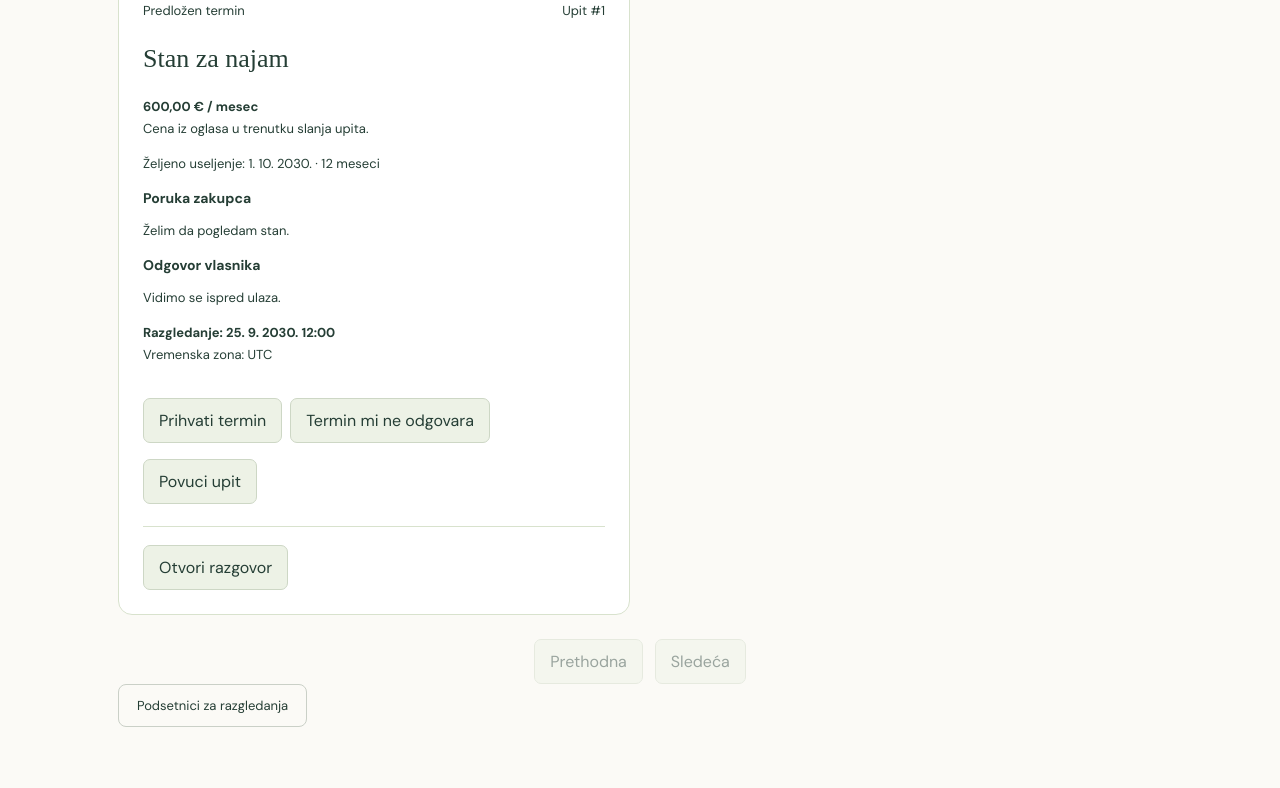
it: requires confirmation to withdraw and hides actions for closed inquiries
(page scrolled)
Click the button "Povuci upit" at coordinates (200, 482), box x1=143 y1=459 x2=257 y2=504
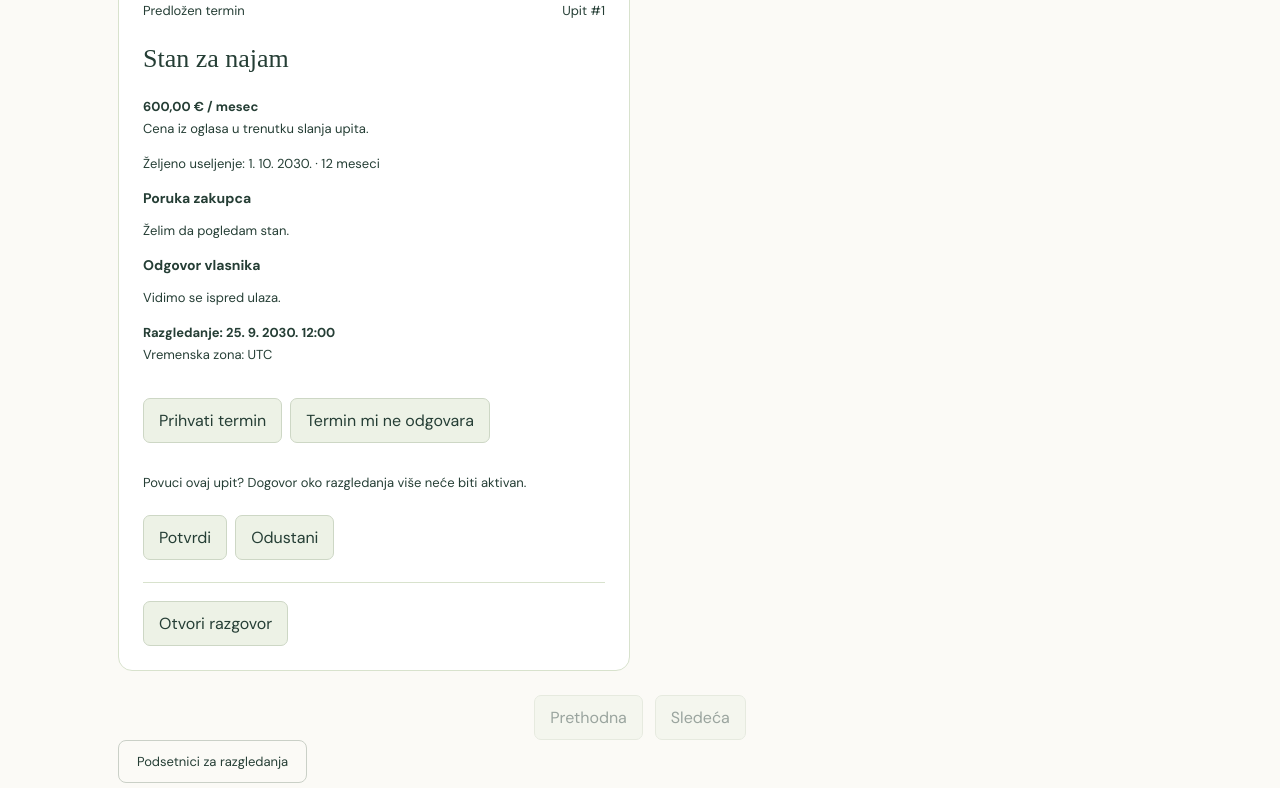
Click the button "Potvrdi" at coordinates (185, 538), box x1=143 y1=515 x2=227 y2=560
(page scrolled)
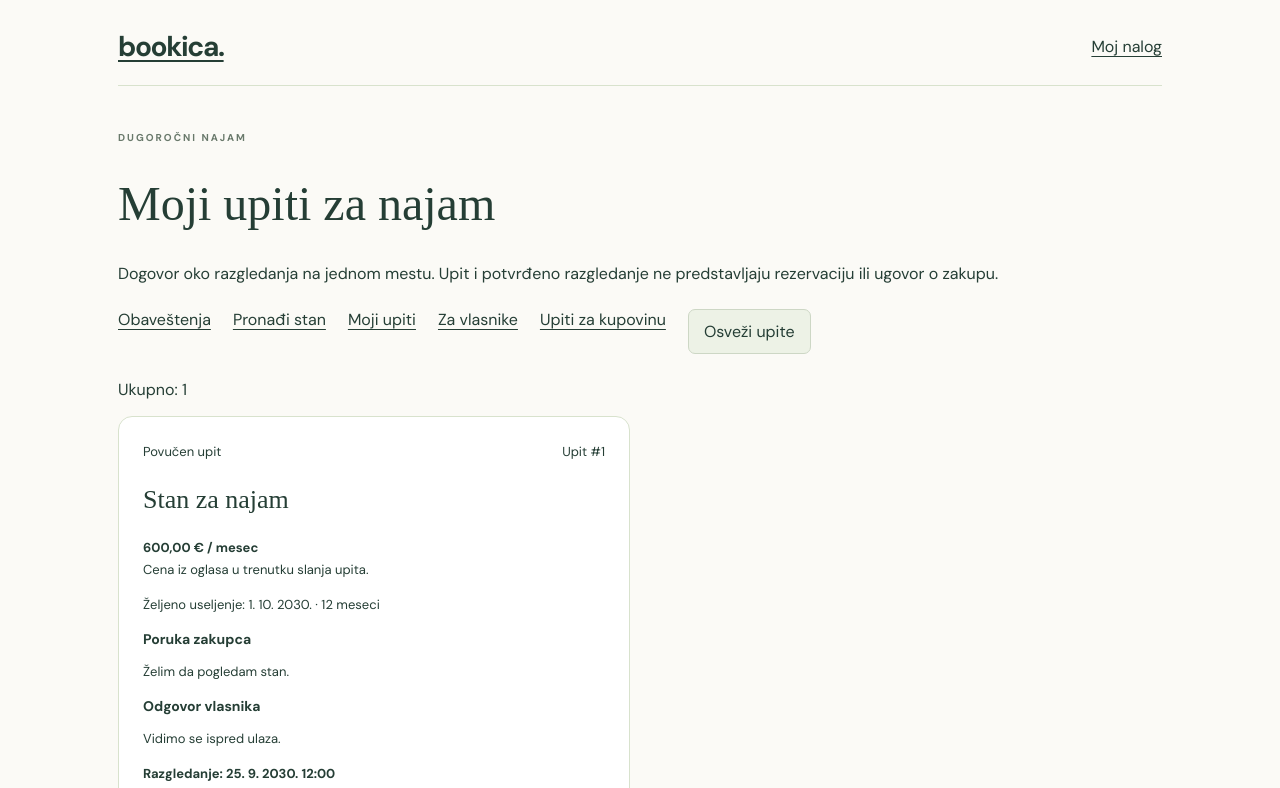
Now the text "Povučen upit" is shown, box x1=143 y1=441 x2=221 y2=463
Now the button "Prihvati termin" is gone
